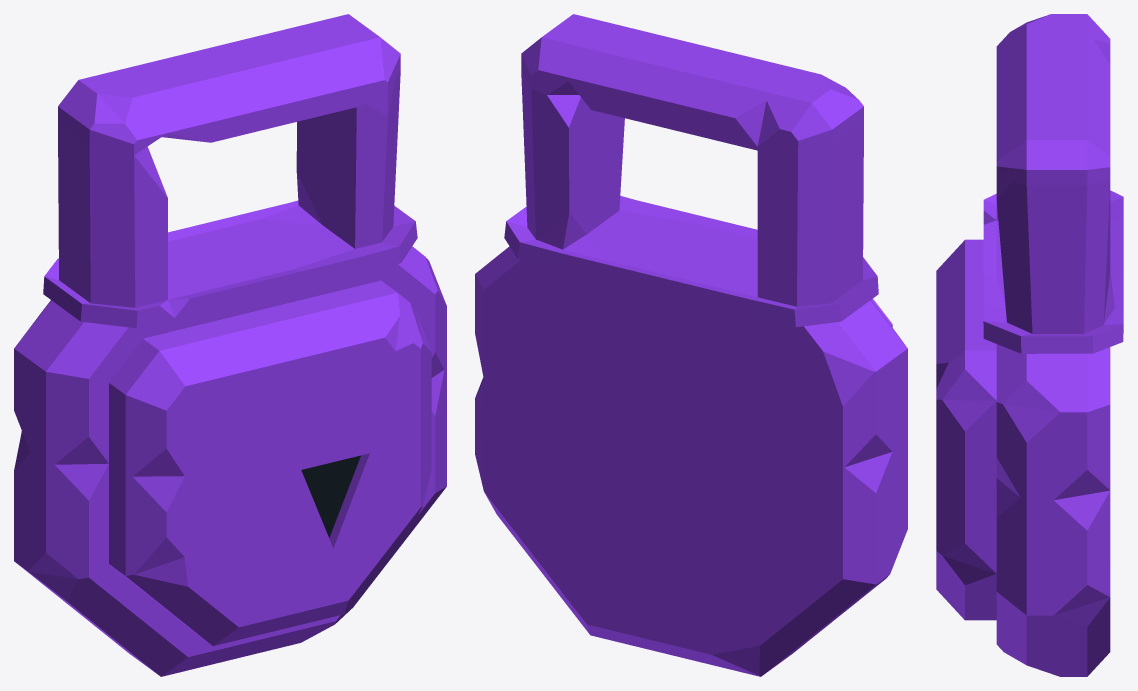
Rendered from purple_lock.glb.
The picture shows the model from 3 angles, left to right: view 1: azimuth 30°, elevation 25°; view 2: azimuth 150°, elevation 25°; view 3: azimuth 270°, elevation 25°; orthographic projection. The views are drawn at different scales.
Visible parts, largest first — view 1: Circle.027; view 2: Circle.027; view 3: Circle.027.
Boxes of the visible parts, bbox=[...] form: Circle.027: bbox=[14, 14, 446, 676]; Circle.027: bbox=[475, 14, 907, 676]; Circle.027: bbox=[936, 14, 1123, 676].
Bounding box in the file's own units: 2 × 2.79 × 0.8475.
1 material, 1 textured.
